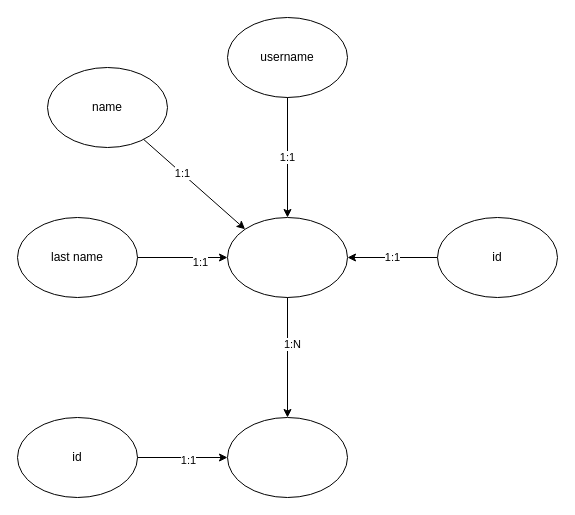
The diagram is 575 pixels wide and 515 high, and some of its shapes have lost their labels. The centre of each missing label's shape, as x and y in pixels:
"message (text)" belongs at (x=287, y=457).
"user" belongs at (x=287, y=257).
